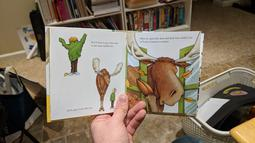text block: (139, 34, 193, 46), (88, 38, 121, 49), (64, 102, 94, 112)
